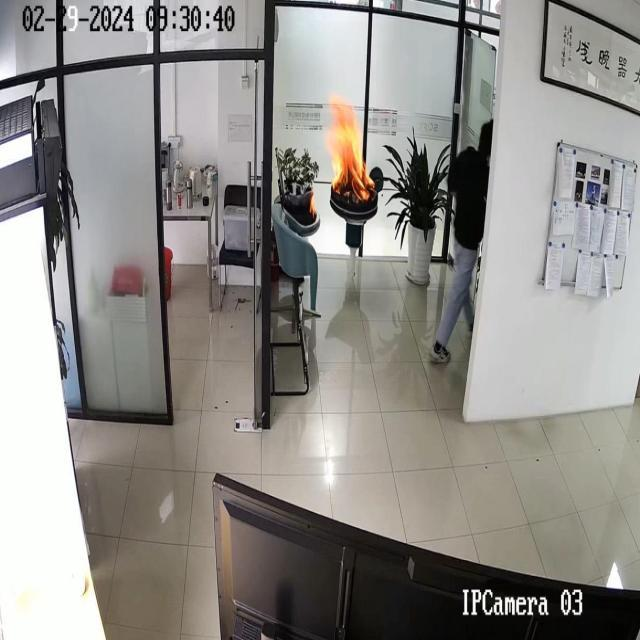smoke: (324, 100, 378, 203)
